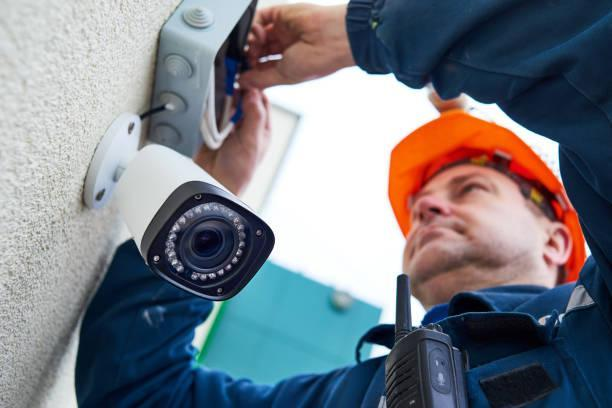camera: (99, 116, 309, 332)
